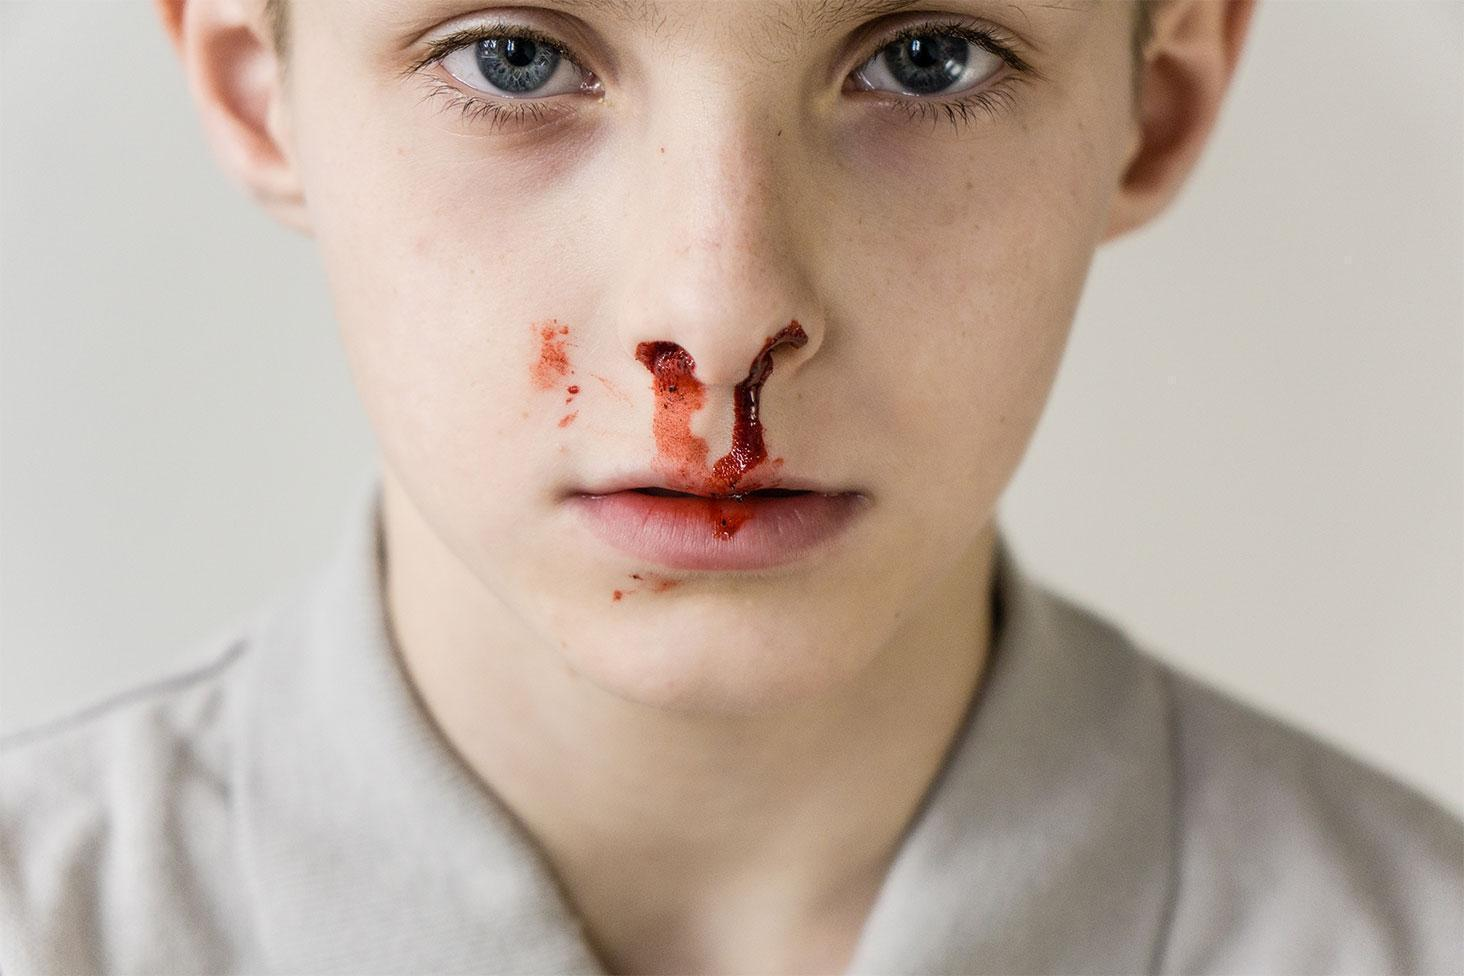Fire: (636, 320, 809, 549), (528, 317, 581, 428)
